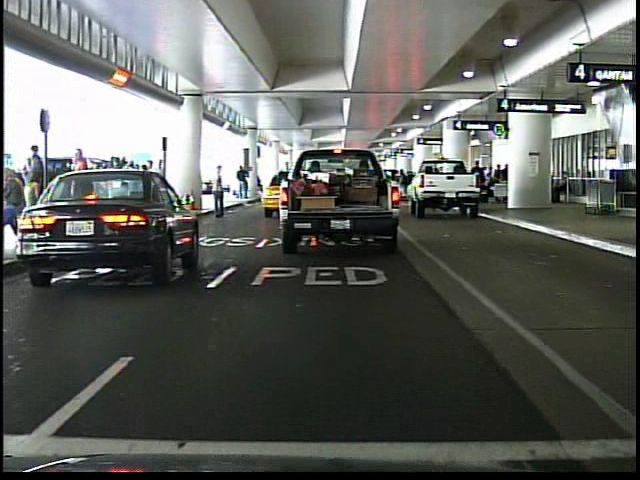person: (66, 146, 95, 233), (208, 162, 232, 223), (237, 162, 255, 198), (399, 167, 414, 207)
